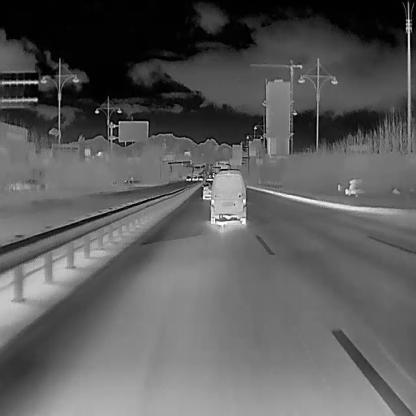car: (209, 169, 246, 224), (201, 181, 211, 200), (191, 173, 197, 180), (185, 174, 190, 180), (198, 177, 202, 180)
